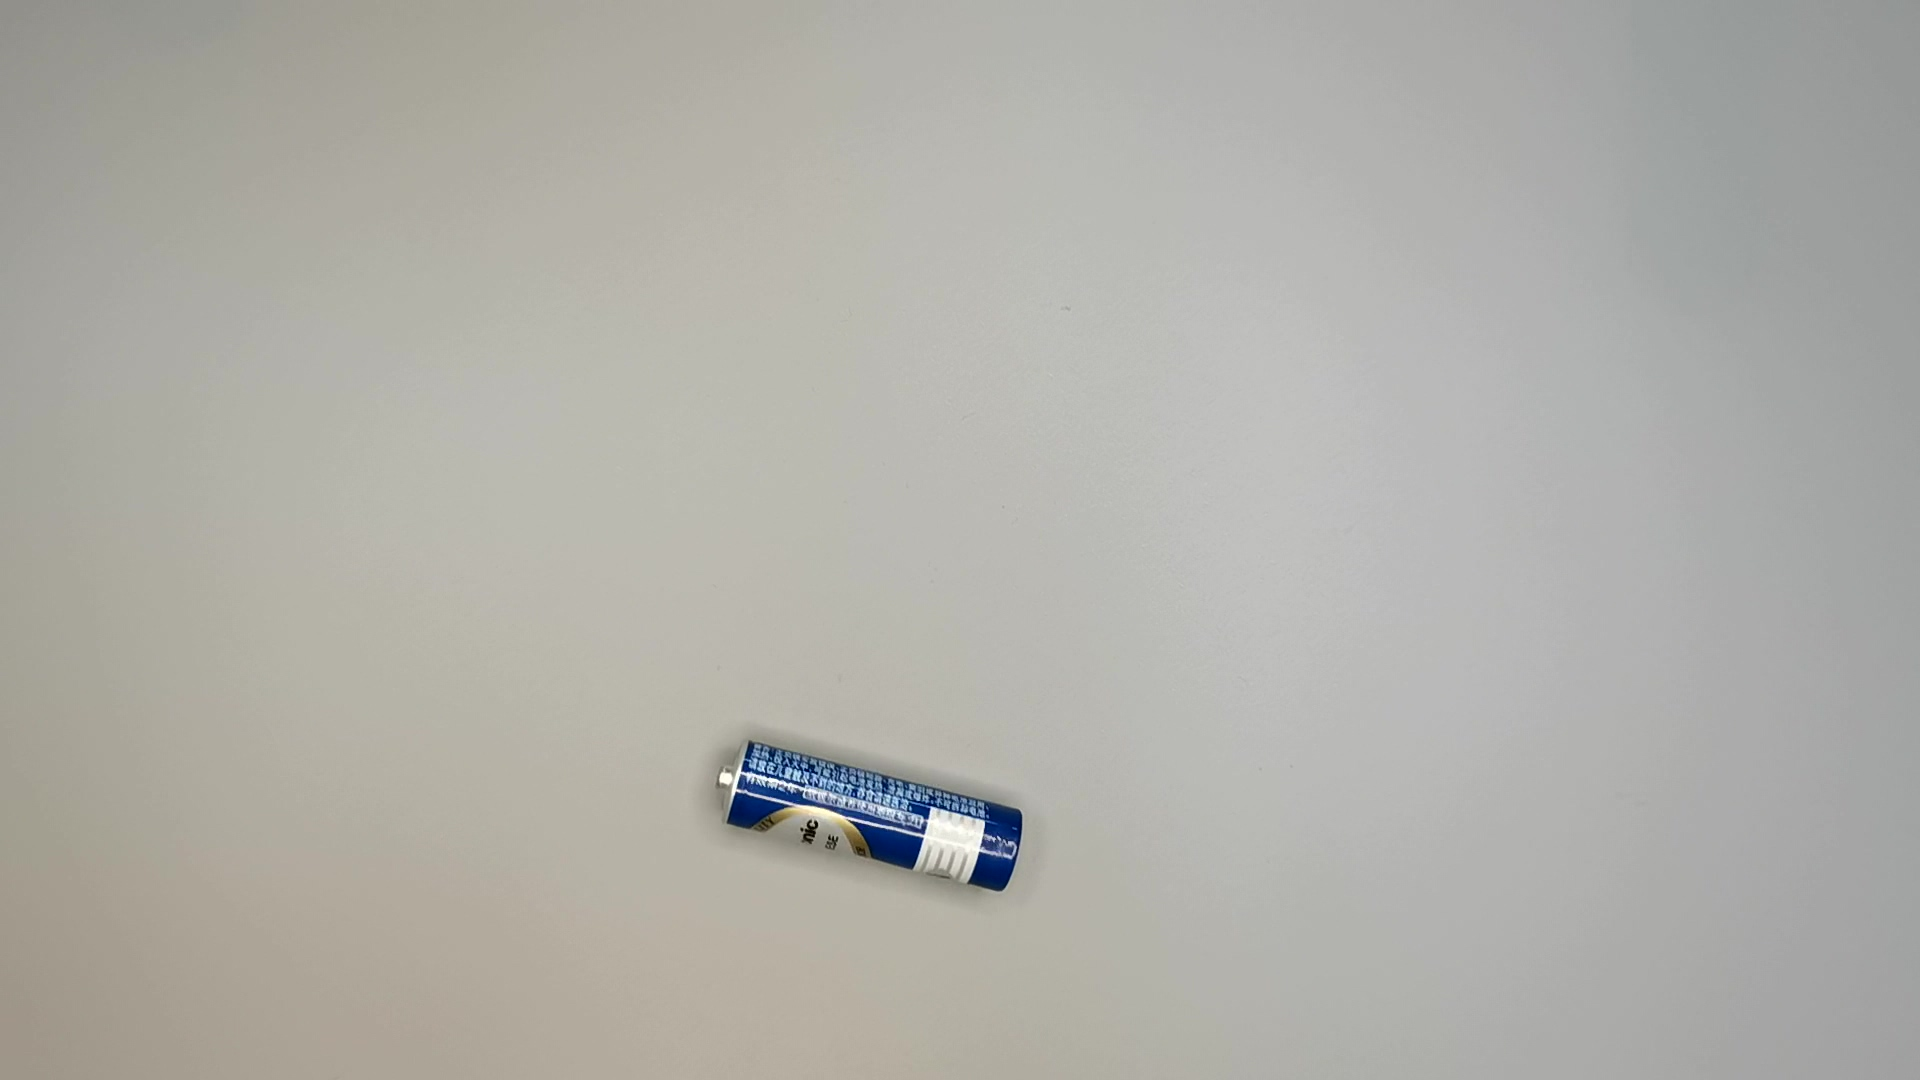battery: (712, 735, 1036, 899)
